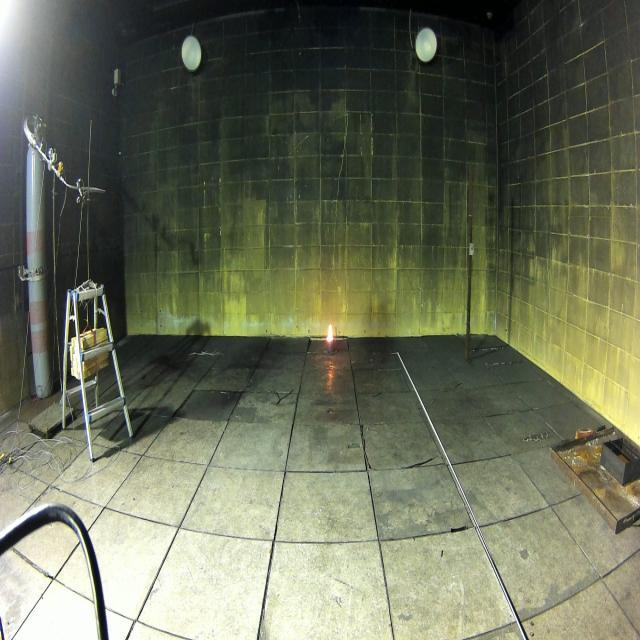Fire: (326, 324, 334, 342)
